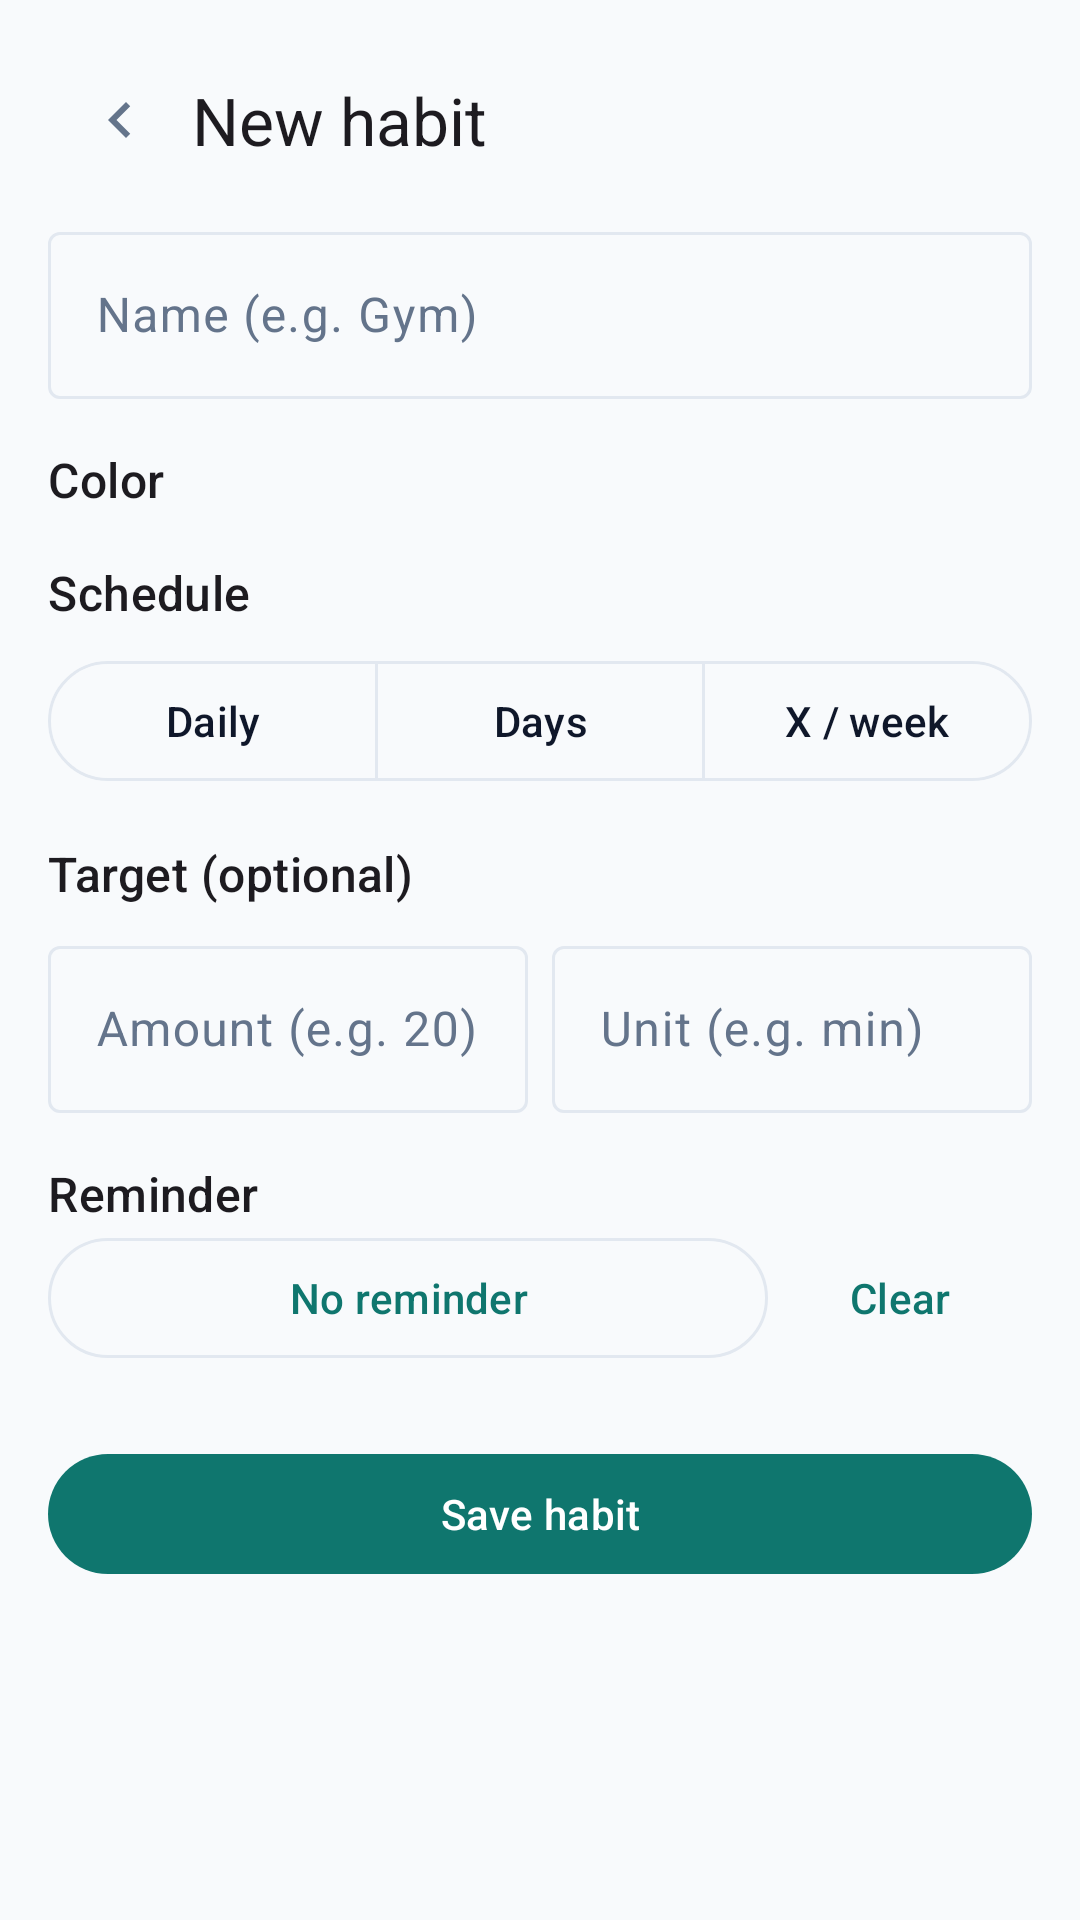

Where to tap for icons on this 1080w x 1920h app screen, as point (x, y):
Back: point (119, 120)
